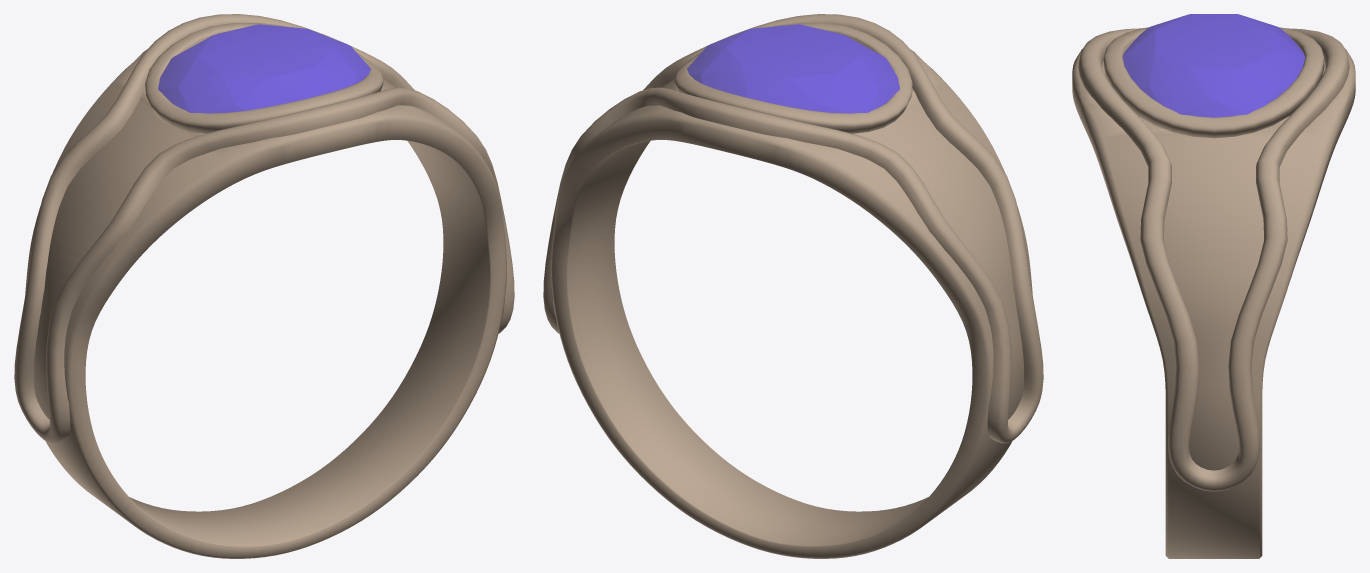
The picture shows the model from 3 angles, left to right: view 1: azimuth 30°, elevation 25°; view 2: azimuth 150°, elevation 25°; view 3: azimuth 270°, elevation 25°; orthographic projection.
Parts seen in each view (by area): view 1: Plane, Gem; view 2: Plane, Gem; view 3: Plane, Gem.
Boxes of the visible parts, x1,y1,x2,y2 form: Plane: (14,14,514,558); Gem: (158,24,370,113); Plane: (543,14,1043,558); Gem: (687,24,899,113); Plane: (1072,27,1355,558); Gem: (1122,14,1305,117).
Bounding box in the file's own units: 2.08 × 2.08 × 1.08.
